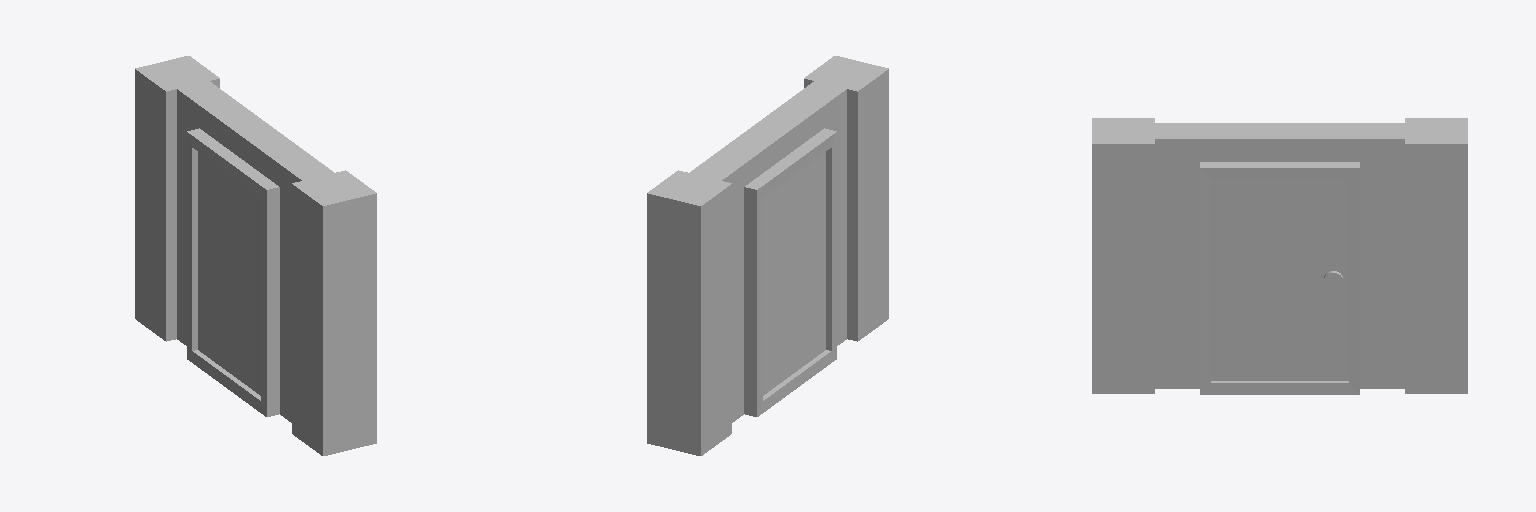
Rendered from Wooden Door Made2.obj.
The picture shows the model from 3 angles: view 1: azimuth 30°, elevation 25°; view 2: azimuth 150°, elevation 25°; view 3: azimuth 270°, elevation 25°; orthographic projection.
Visible parts, largest first — view 1: Wood_Door_Square_01; view 2: Wood_Door_Square_01; view 3: Wood_Door_Square_01.
Boxes of the visible parts, box(x1,y1,x2,y2) form: Wood_Door_Square_01: box(135, 56, 376, 455); Wood_Door_Square_01: box(647, 56, 888, 455); Wood_Door_Square_01: box(1092, 118, 1467, 394).
Bounding box in the file's own units: 0.5389 × 2.2 × 3.